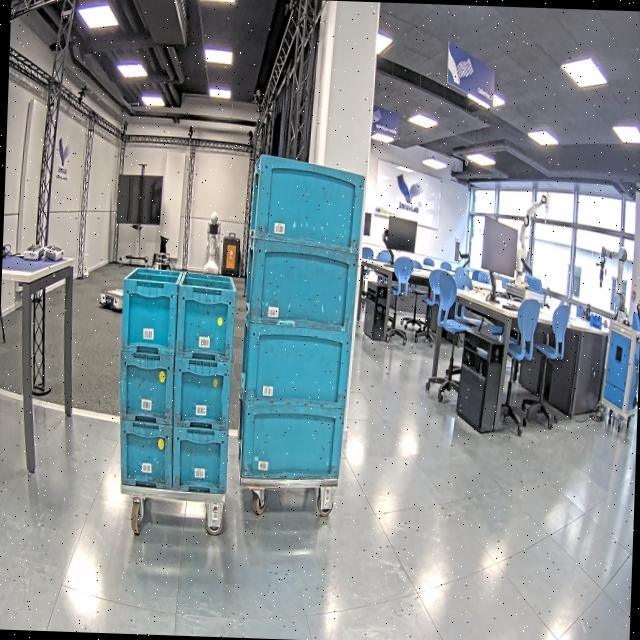BoxB4: (248, 153, 366, 257), (240, 310, 353, 412), (236, 384, 346, 485), (242, 248, 360, 333)
BoxB8: (175, 268, 237, 361), (120, 263, 182, 354), (172, 356, 232, 431), (117, 350, 175, 426), (170, 427, 228, 496), (118, 420, 174, 490)
